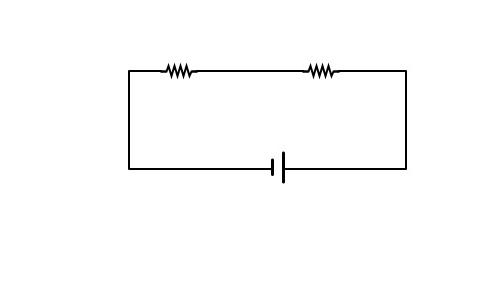resistor: (152, 49, 214, 82), (300, 56, 347, 89)
